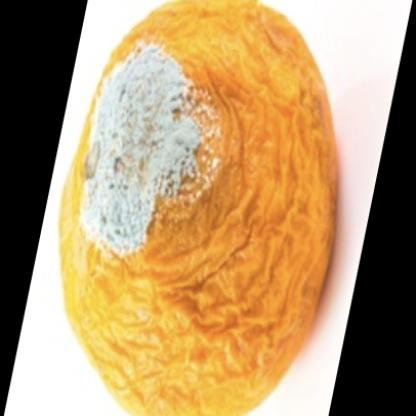rotten: (59, 1, 342, 416)
